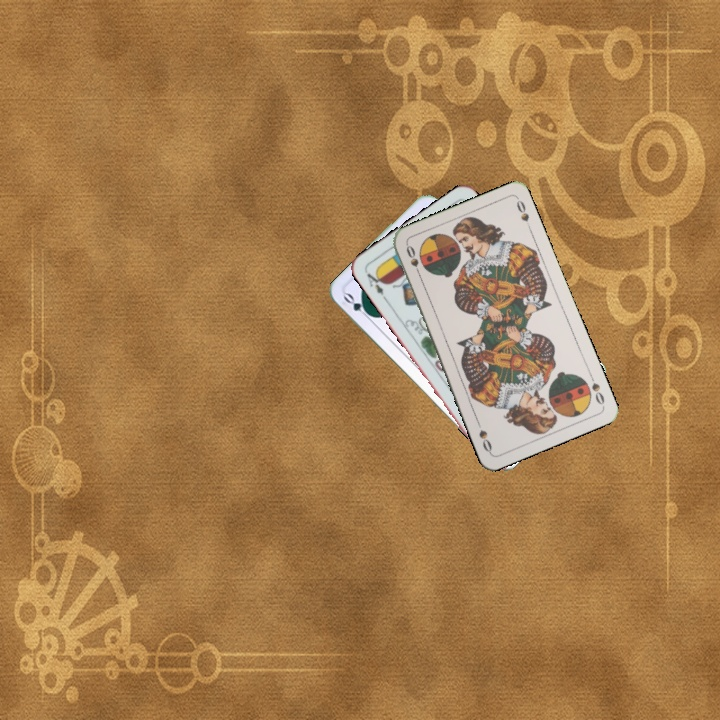EA: (363, 267, 389, 303)
GO: (339, 289, 375, 322)
SO: (402, 241, 424, 280), (585, 369, 607, 408)
